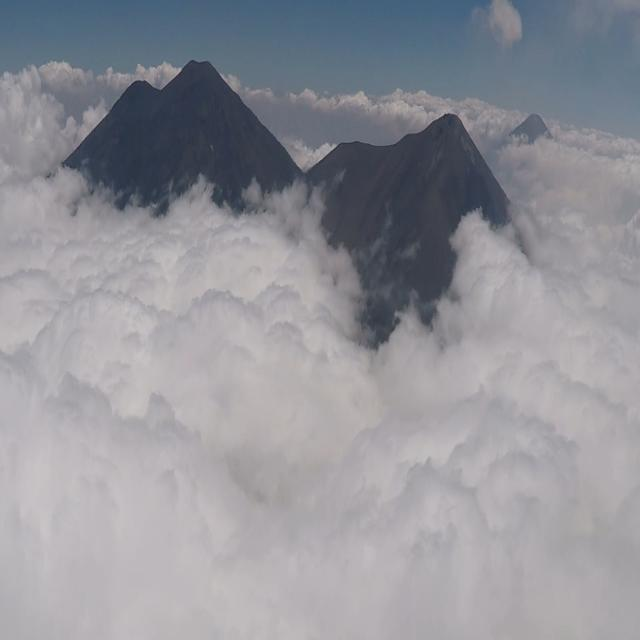Plume: (488, 0, 521, 50)
Summit: (394, 109, 488, 168)
